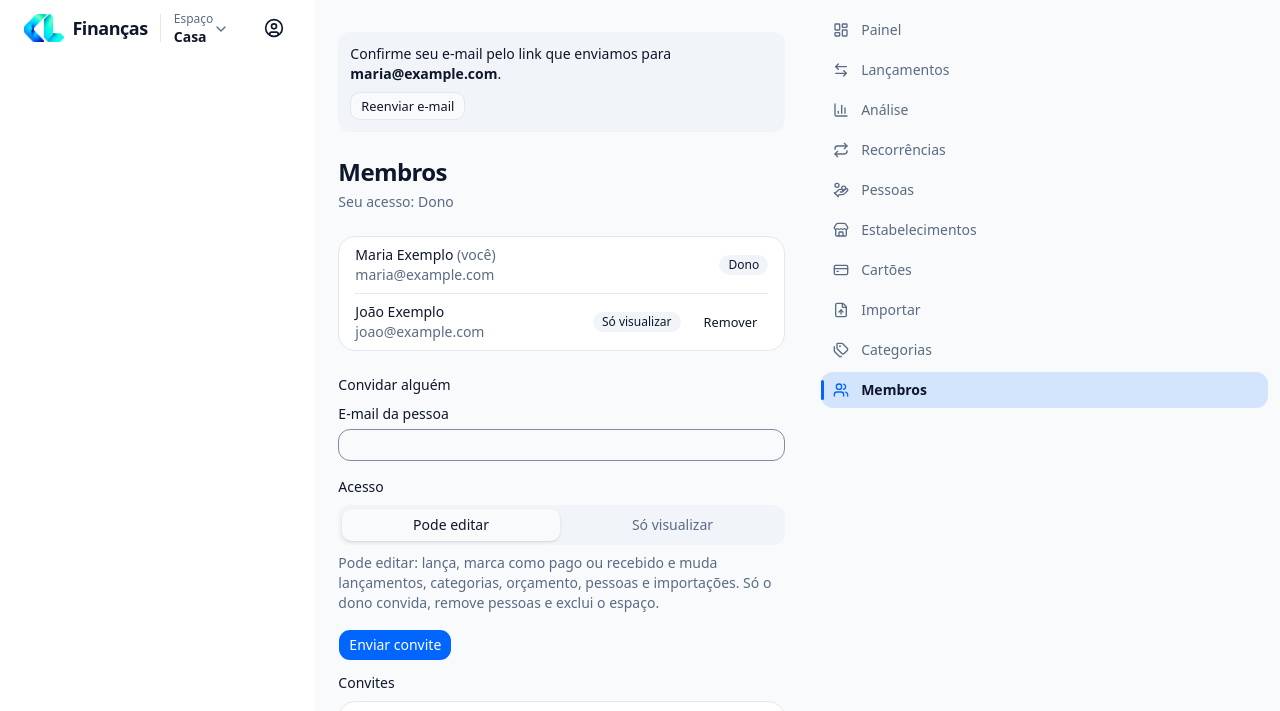
Test: WorkspacePage › lets the OWNER remove a member, after naming them
Step 1. Click the button with aria-label "Remover João Exemplo" → click(730, 322), box [692, 308, 768, 336]
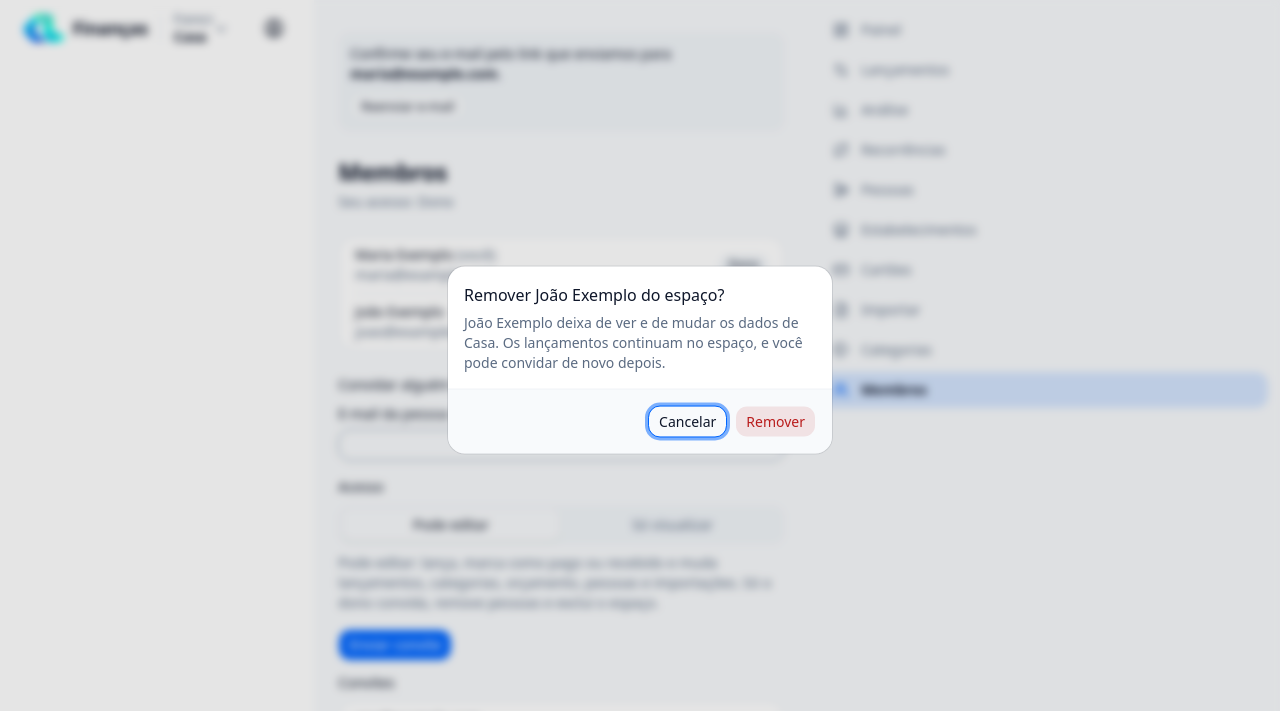
Step 2. Click the button "Remover" → click(776, 422), box [735, 406, 816, 438]
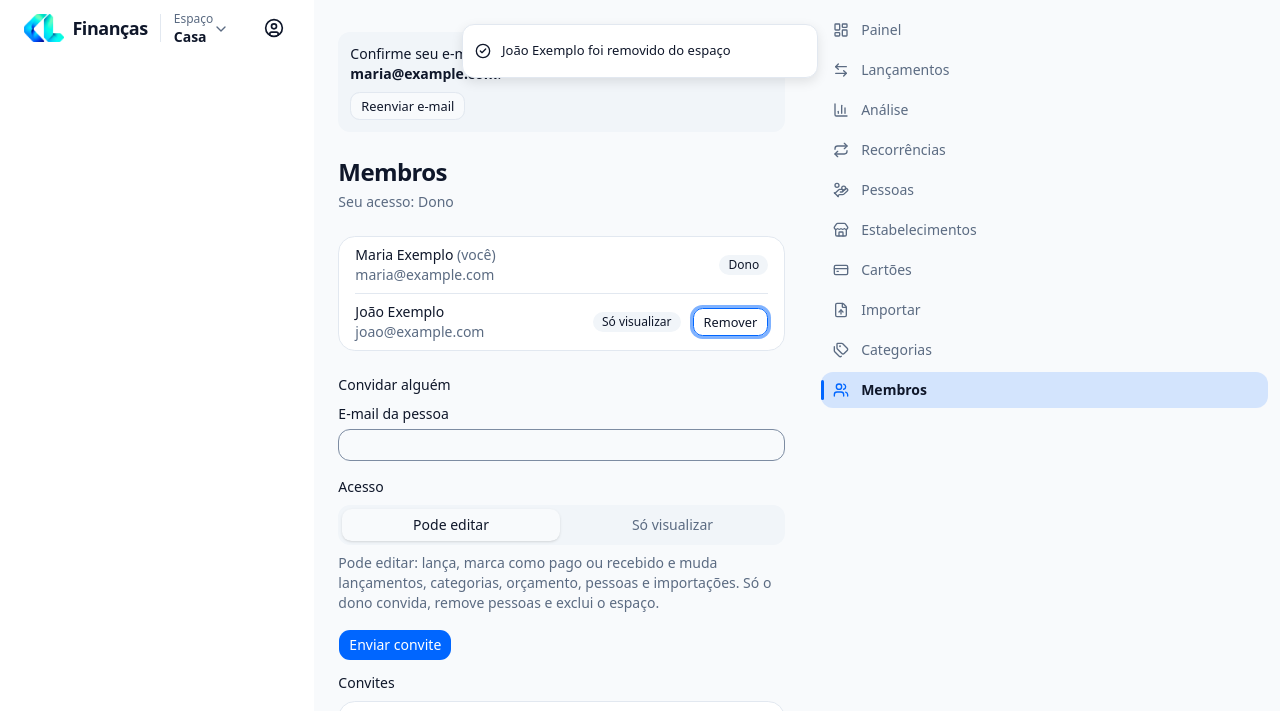
Result: the text "João Exemplo foi removido do espaço" is shown at [502, 41, 730, 60]
